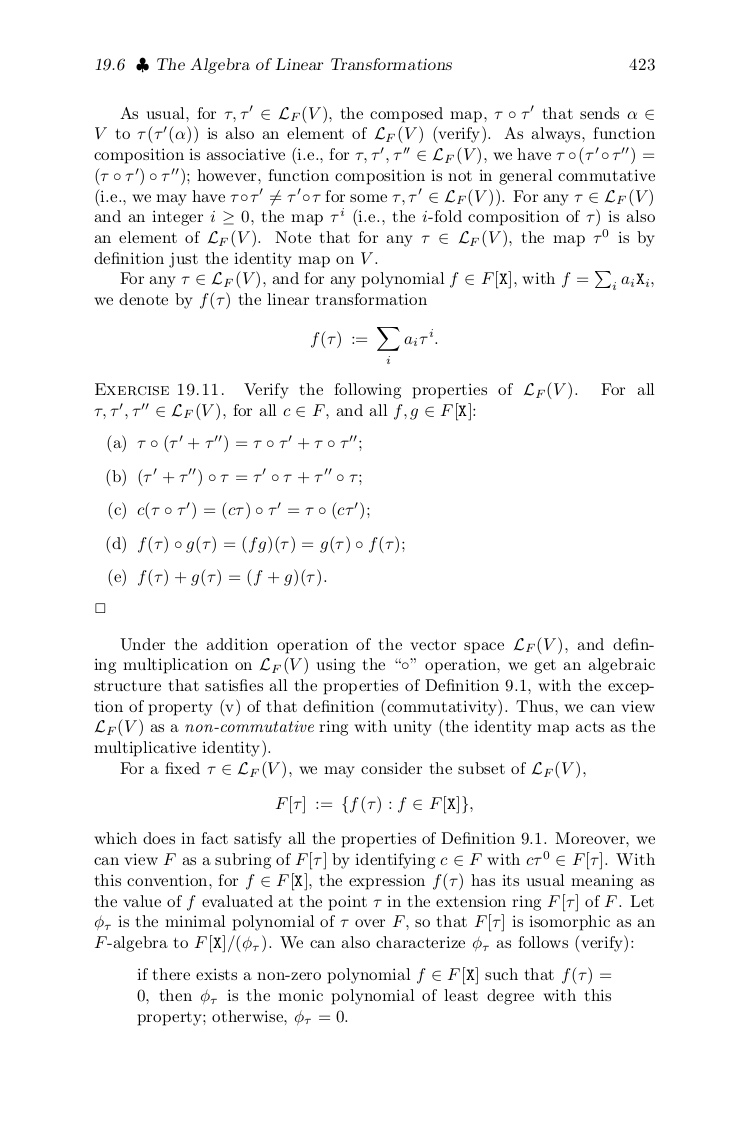formula: (106, 535, 404, 554), (106, 467, 361, 487), (108, 501, 369, 520), (107, 434, 361, 453), (311, 327, 437, 363), (108, 568, 326, 587), (275, 795, 472, 814)
